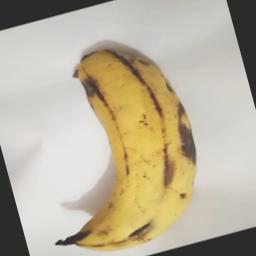Banana Unripe: (6, 25, 219, 256)
